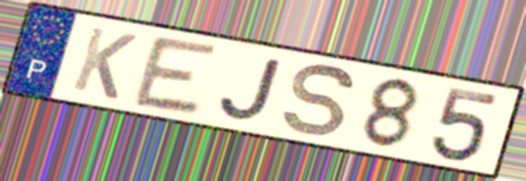5: (427, 83, 503, 163)
8: (358, 74, 426, 150)
E: (129, 33, 223, 119)
J: (216, 55, 286, 123)
K: (67, 23, 141, 103)
S: (280, 61, 359, 140)
